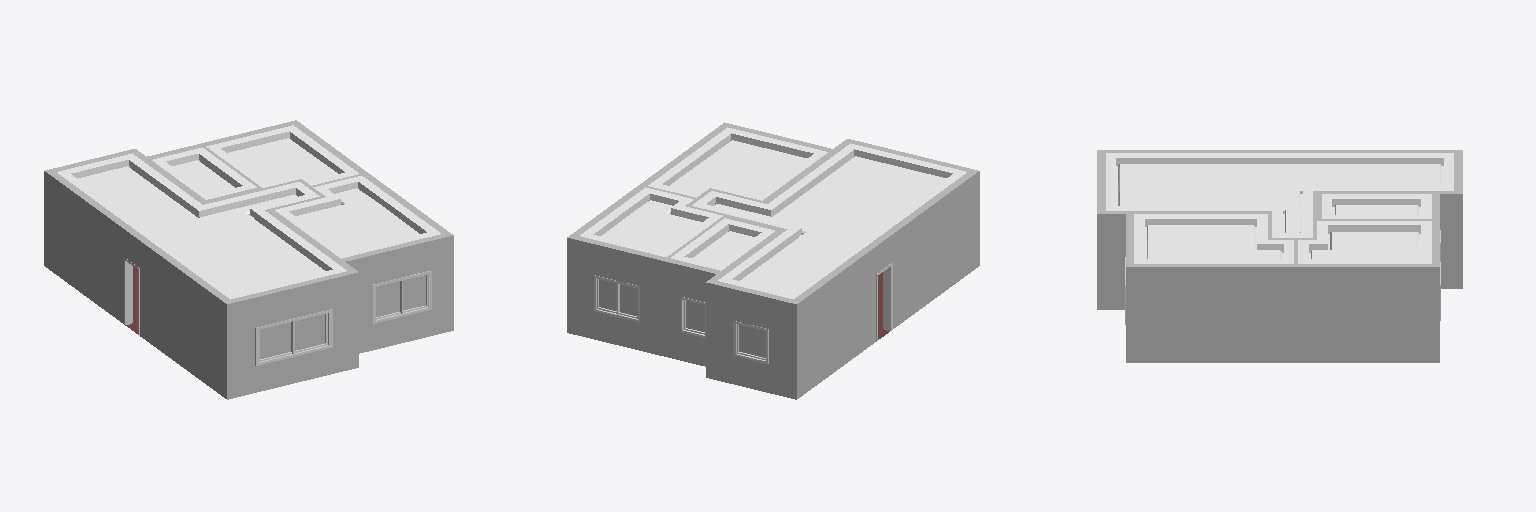
Rendered from house.obj.
The picture shows the model from 3 angles: view 1: azimuth 30°, elevation 25°; view 2: azimuth 150°, elevation 25°; view 3: azimuth 270°, elevation 25°; orthographic projection.
Parts seen in each view (by area): view 1: Plane.073, Plane.138, Plane.175, Plane.083, Plane.171, Plane.082, Plane.078, Cube.009, Cube.013, Plane.031, Cube.007, Cube.012 (+2 smaller); view 2: Plane.073, Plane.138, Plane.183, Plane.083, Plane.177, Plane.082, Plane.182, Plane.078, Plane.031, Cube.015, Cube.003, Cube.006 (+3 smaller); view 3: Plane.073, Plane.134, Plane.133, Plane.083, Plane.082, Plane.078, Plane.116, Plane.135, Plane.031, Plane.137, Plane.051.
Part boxes in pixels (x1,y1,x2,y2): Plane.073: (57, 153, 346, 299); Plane.138: (44, 171, 226, 398); Plane.175: (227, 272, 358, 399); Plane.083: (275, 176, 440, 258); Plane.171: (346, 235, 453, 353); Plane.082: (206, 125, 358, 187); Plane.078: (152, 147, 256, 199); Cube.009: (260, 314, 324, 358); Cube.013: (376, 275, 425, 316); Plane.031: (45, 169, 232, 303); Cube.007: (255, 309, 332, 365); Cube.012: (373, 271, 431, 323); Plane.073: (692, 143, 966, 298); Plane.138: (797, 171, 979, 398); Plane.183: (567, 238, 663, 355); Plane.083: (648, 127, 827, 200); Plane.177: (706, 283, 796, 399); Plane.082: (580, 187, 722, 256); Plane.182: (664, 261, 715, 366); Plane.078: (671, 218, 774, 270); Plane.031: (791, 169, 978, 303); Cube.015: (599, 279, 637, 316); Cube.003: (876, 263, 892, 341); Cube.006: (739, 325, 765, 357); Plane.073: (1106, 153, 1453, 237); Plane.134: (1126, 267, 1295, 362); Plane.133: (1296, 267, 1439, 362); Plane.083: (1134, 214, 1293, 263); Plane.082: (1298, 221, 1431, 263); Plane.078: (1322, 194, 1431, 218); Plane.116: (1440, 194, 1462, 288); Plane.135: (1102, 214, 1125, 309); Plane.031: (1097, 150, 1461, 152); Plane.137: (1097, 214, 1105, 309); Plane.051: (1097, 151, 1105, 212).
Size of the model in its own units: 7.94 by 3 by 10.44.